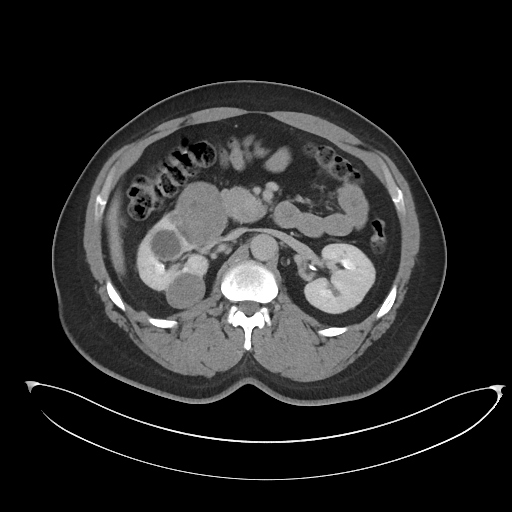Lesion: (170, 177, 230, 252)
